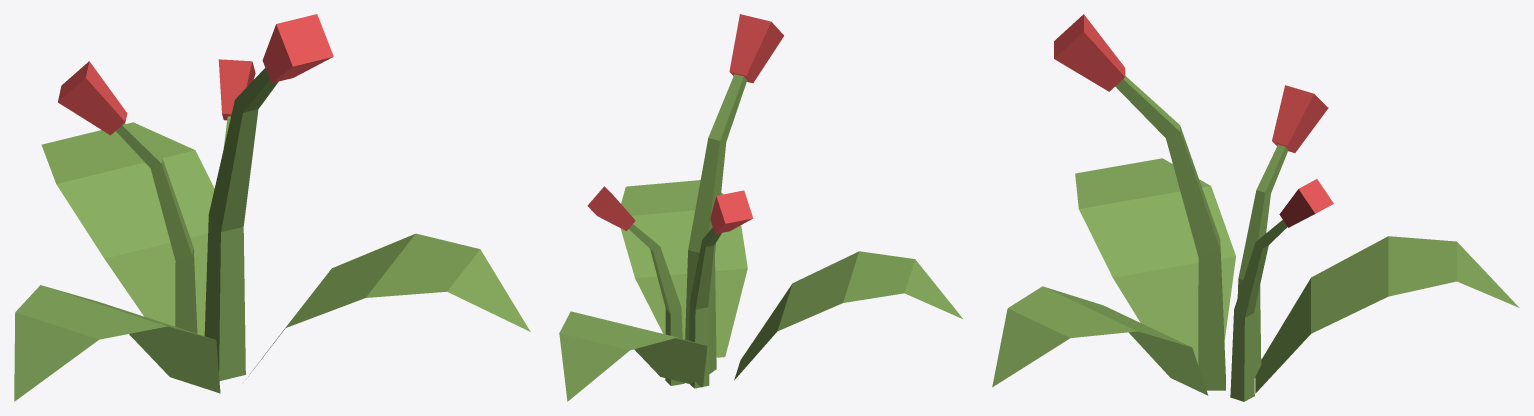
Rendered from Flower_Red_1.fbx.
3 renders of one model, left to right at view 1: azimuth 30°, elevation 25°; view 2: azimuth 150°, elevation 25°; view 3: azimuth 270°, elevation 25°, orthographic. The views are drawn at different scales.
Visible parts, largest first — view 1: Flower_Red_1; view 2: Flower_Red_1; view 3: Flower_Red_1.
Part boxes in pixels (x1,y1,x2,y2): Flower_Red_1: (14, 14, 530, 401); Flower_Red_1: (559, 14, 962, 401); Flower_Red_1: (992, 14, 1519, 401).
Size of the model in its own units: 51.38 by 44.05 by 57.4.
